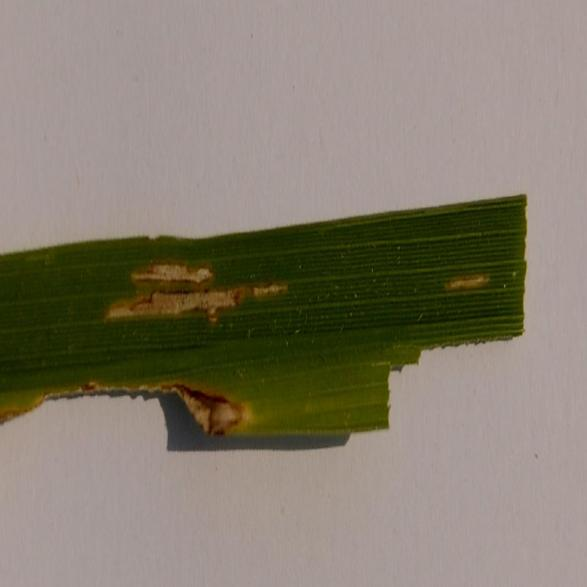Bacteria_Leaf_Blight: (93, 239, 313, 338), (430, 232, 511, 323)
